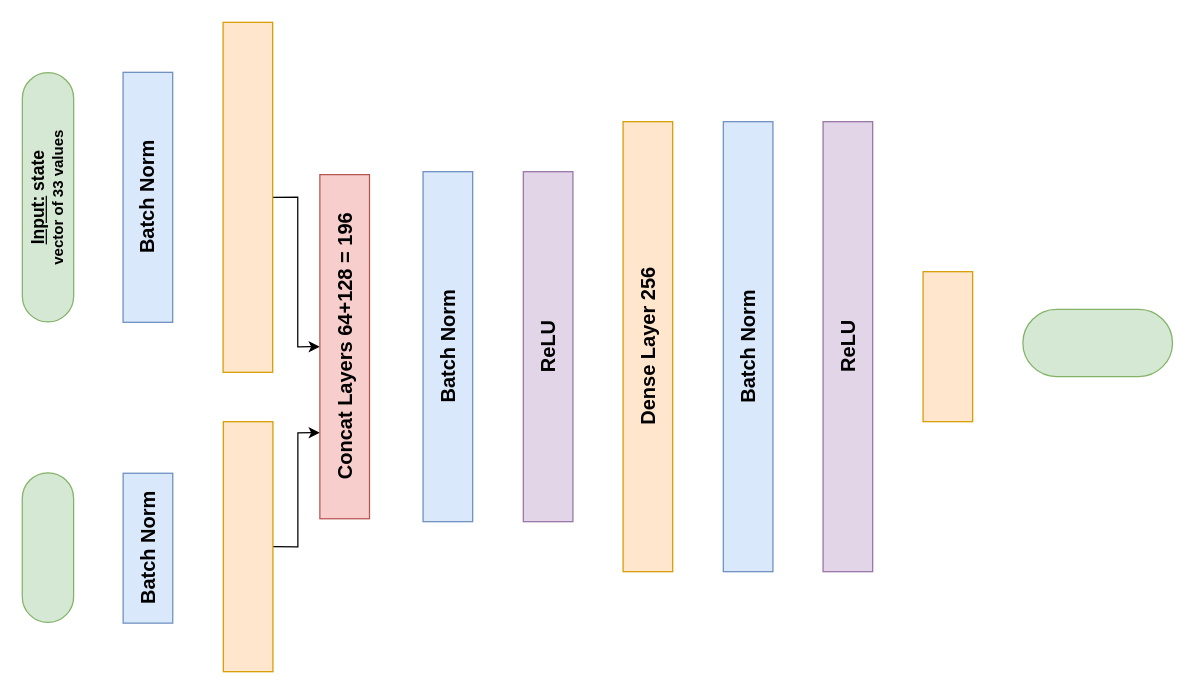
Some shapes in this 1195 by 694 pixel diagram are drawn without their labels. The shapes that lost their labels are listed below. From the top down, each one's centre as x and y in pixels, then its label:
At pixel 247 196: "Dense Layer 128".
At pixel 947 346: "Dense Layer 1".
At pixel 1097 342: "Output: state-action scalar value".
At pixel 47 547: "Input: action vector of 4 values".
At pixel 247 546: "Dense Layer 64".
